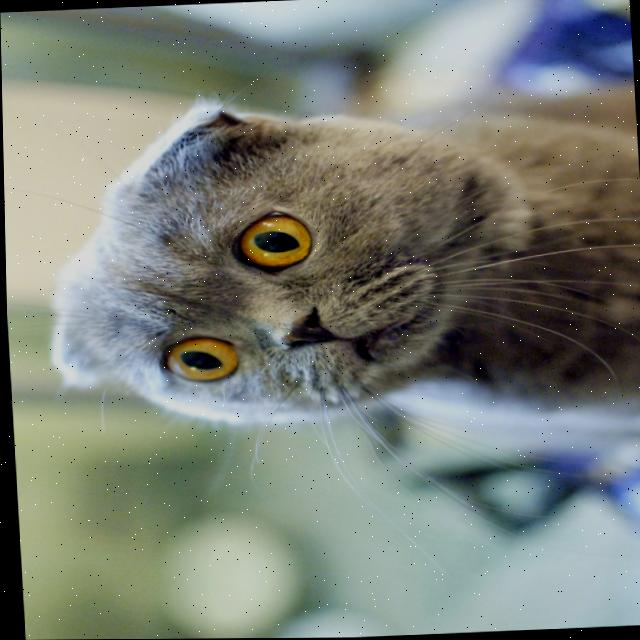Scottish Fold: (25, 77, 640, 450)
